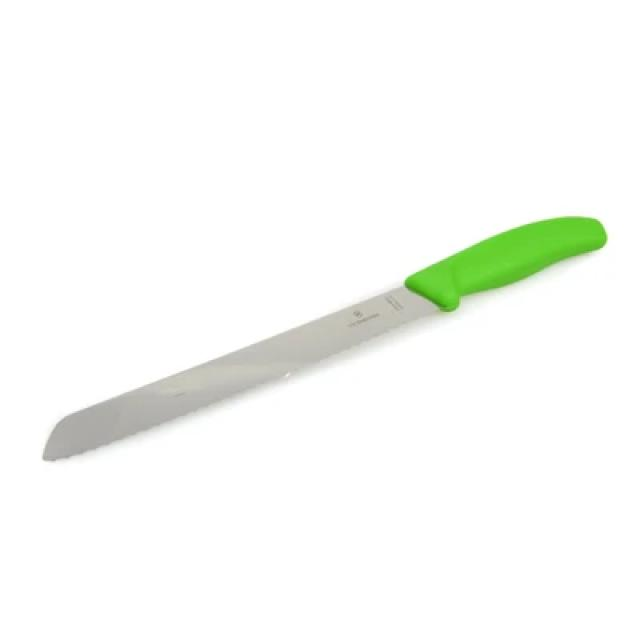Knife: (42, 216, 606, 459)
